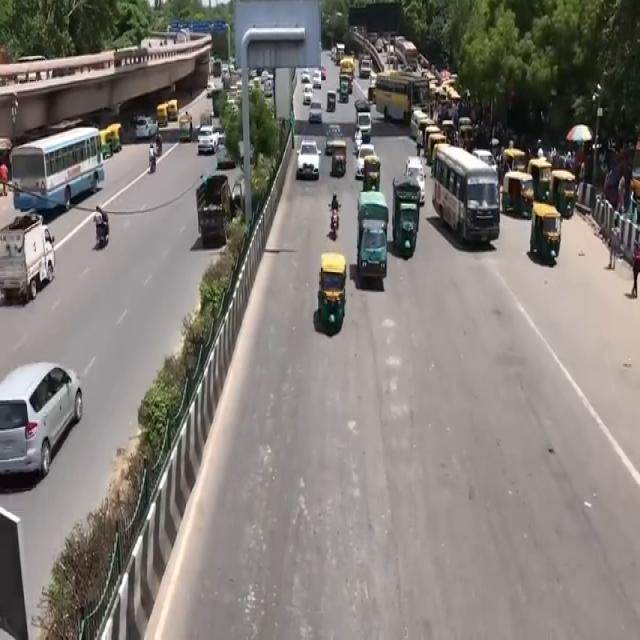BUS: (13, 125, 108, 218), (430, 145, 500, 251), (372, 70, 428, 123)
TRUCK: (0, 217, 53, 303)
